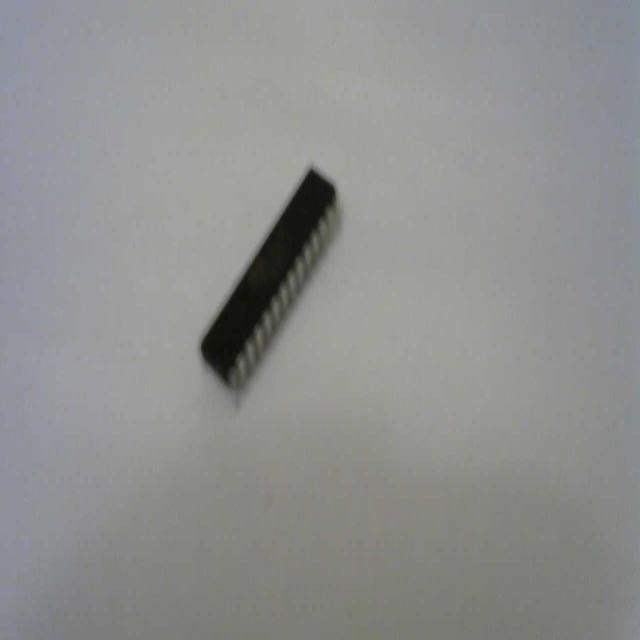atmega: (197, 161, 343, 395)
